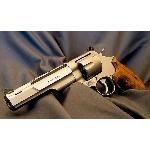Pistol: (0, 44, 150, 112)
